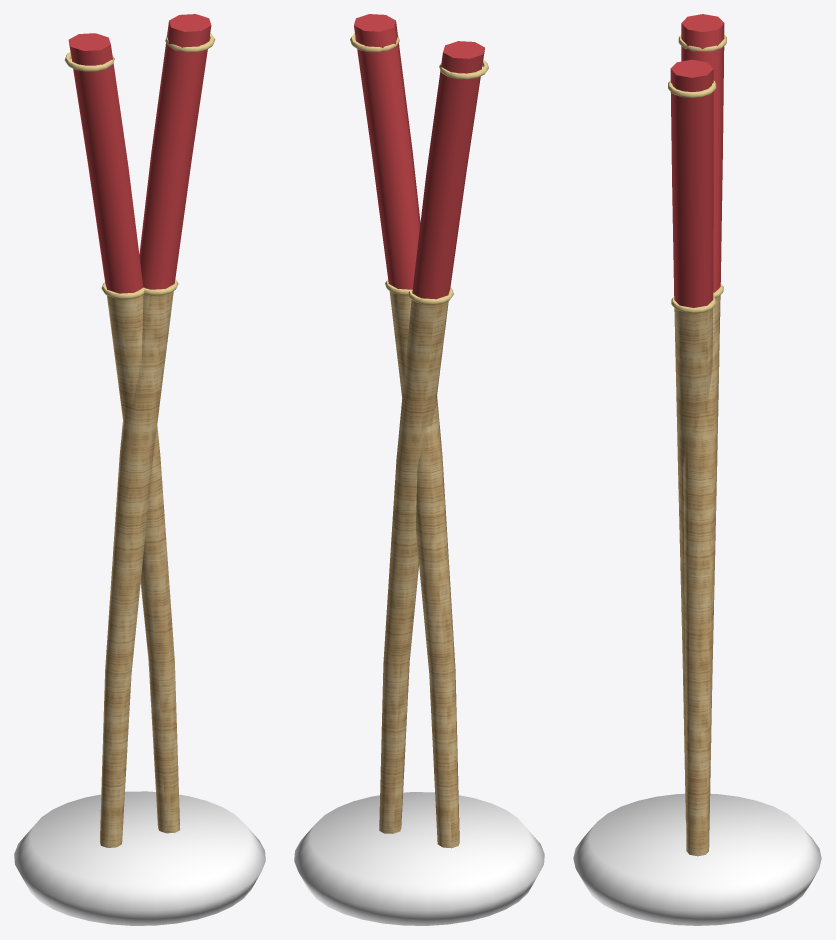
The model's file is ENV_Dimsum_Chopsticks.fbx.
3 views of the same model, side by side, from view 1: azimuth 30°, elevation 25°; view 2: azimuth 150°, elevation 25°; view 3: azimuth 270°, elevation 25° (orthographic).
Visible parts, largest first — view 1: ENV_Dimsum_Chopsticks; view 2: ENV_Dimsum_Chopsticks; view 3: ENV_Dimsum_Chopsticks.
Boxes of the visible parts, left/top/right/bottom form: ENV_Dimsum_Chopsticks: left=14, top=14, right=265, bottom=925; ENV_Dimsum_Chopsticks: left=294, top=14, right=544, bottom=925; ENV_Dimsum_Chopsticks: left=573, top=14, right=821, bottom=925.
Size of the model in its own units: 0.92 by 3.4 by 0.92.
